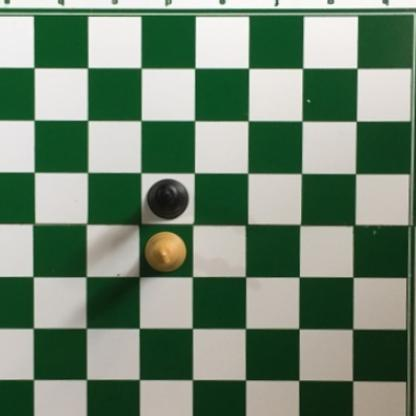black-king: (148, 176, 188, 218)
white-king: (143, 230, 188, 274)
